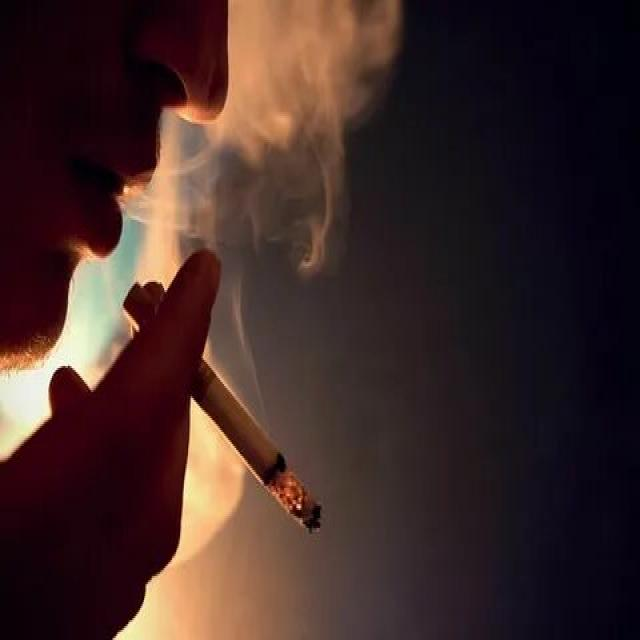smoke: (124, 280, 324, 538)
